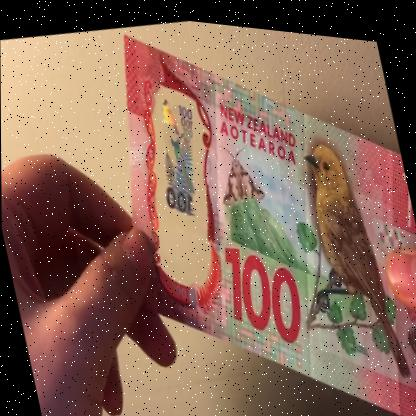100B: (142, 83, 220, 230)
